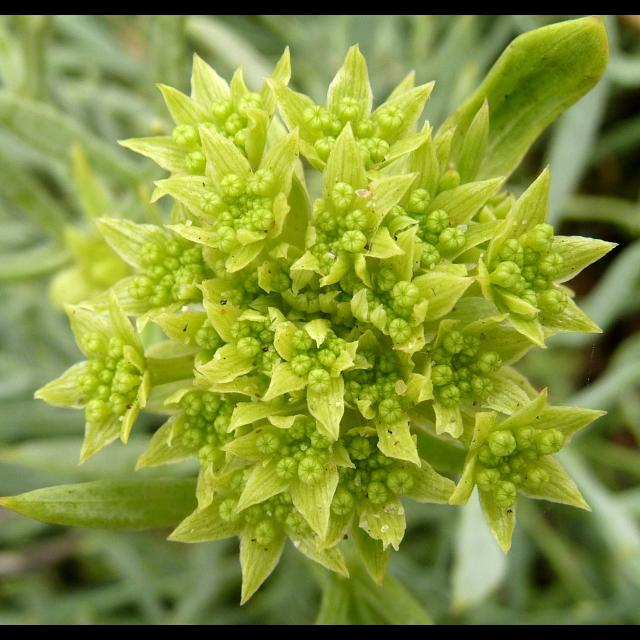Flower: (31, 44, 622, 610), (155, 128, 305, 280)
